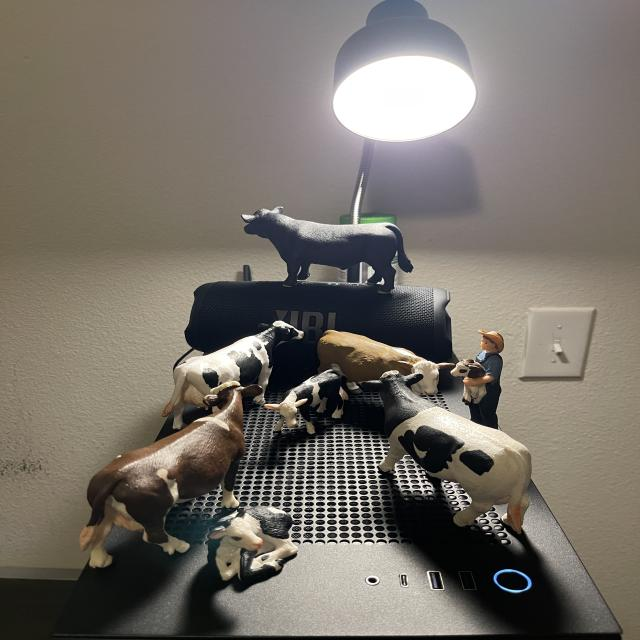cow: (49, 367, 312, 600), (327, 343, 563, 561), (145, 310, 318, 434), (232, 201, 419, 306), (310, 324, 450, 409), (265, 360, 363, 448), (203, 499, 302, 586), (443, 352, 498, 408)
person: (461, 329, 507, 429)
